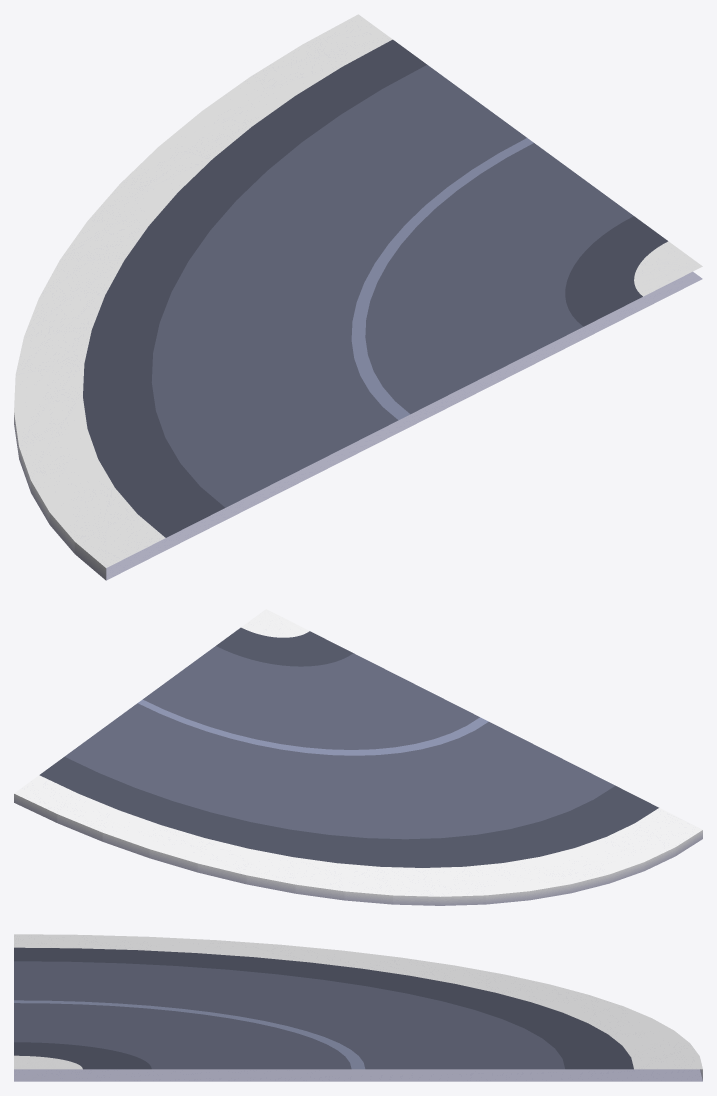
File: road-Turn-HalfBankedLeft-BiSlopeUp-Up1-Right-Size1.glb
The picture shows the model from 3 angles, top to bottom: view 1: azimuth 30°, elevation 25°; view 2: azimuth 150°, elevation 25°; view 3: azimuth 270°, elevation 25°; orthographic projection. The views are drawn at different scales.
Parts seen in each view (by area): view 1: road-Turn-HalfBankedLeft-BiSlopeUp-Up1-Right-Size1; view 2: road-Turn-HalfBankedLeft-BiSlopeUp-Up1-Right-Size1; view 3: road-Turn-HalfBankedLeft-BiSlopeUp-Up1-Right-Size1.
Boxes of the visible parts, x1,y1,x2,y2 form: road-Turn-HalfBankedLeft-BiSlopeUp-Up1-Right-Size1: (14,14,702,580); road-Turn-HalfBankedLeft-BiSlopeUp-Up1-Right-Size1: (14,609,702,905); road-Turn-HalfBankedLeft-BiSlopeUp-Up1-Right-Size1: (14,934,702,1081).
Size of the model in its own units: 1 by 0.27 by 1.
Materials: 1 (1 with a texture image).
